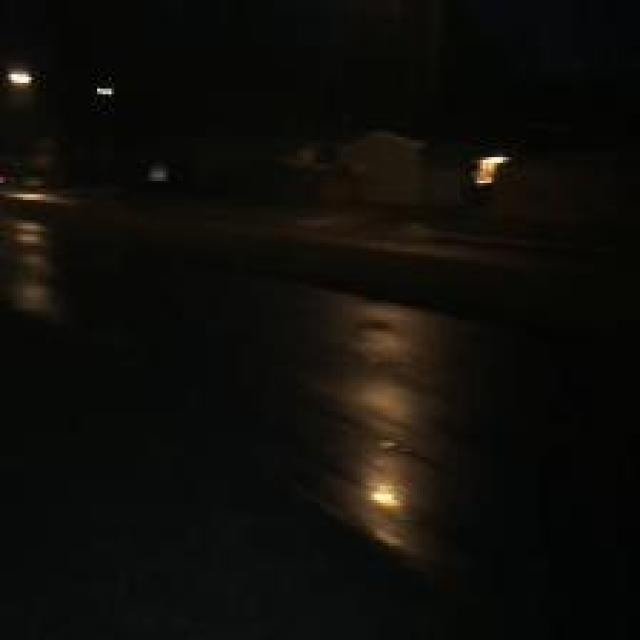other: (342, 457, 426, 529), (473, 139, 528, 203), (2, 58, 50, 100)
